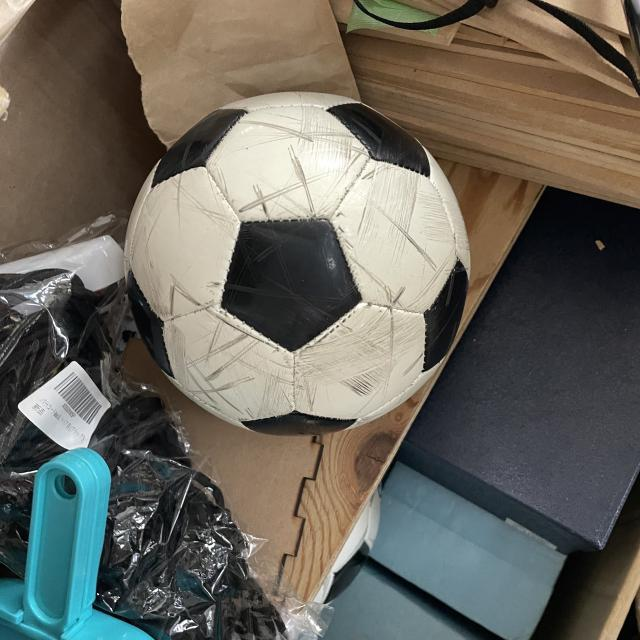ball: (124, 94, 474, 438)
